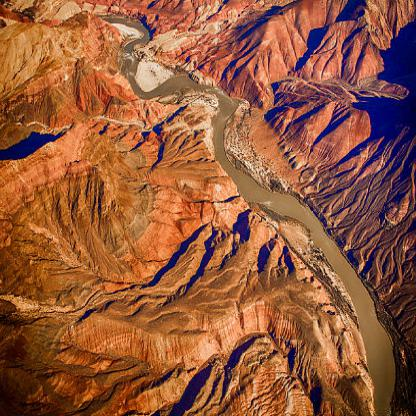Sedimentary_Sandstone: (53, 163, 145, 274), (164, 217, 285, 301), (77, 316, 217, 364), (228, 335, 310, 415), (282, 106, 349, 164), (79, 116, 157, 150)
